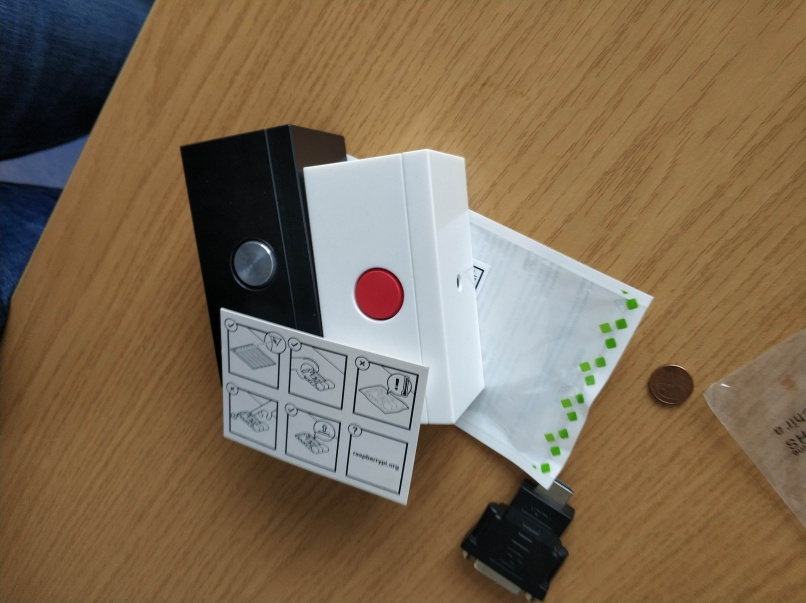black+black+silver: (176, 122, 349, 371)
white+white+red: (301, 148, 489, 429)
